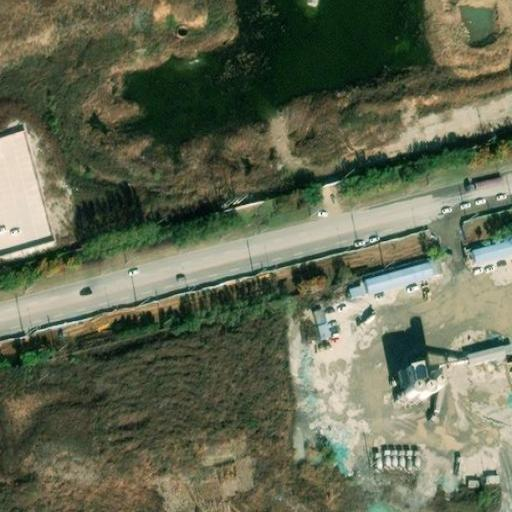building: (365, 263, 442, 301), (460, 204, 512, 237), (392, 371, 434, 408), (467, 235, 512, 266), (466, 349, 512, 372), (310, 308, 329, 340)
